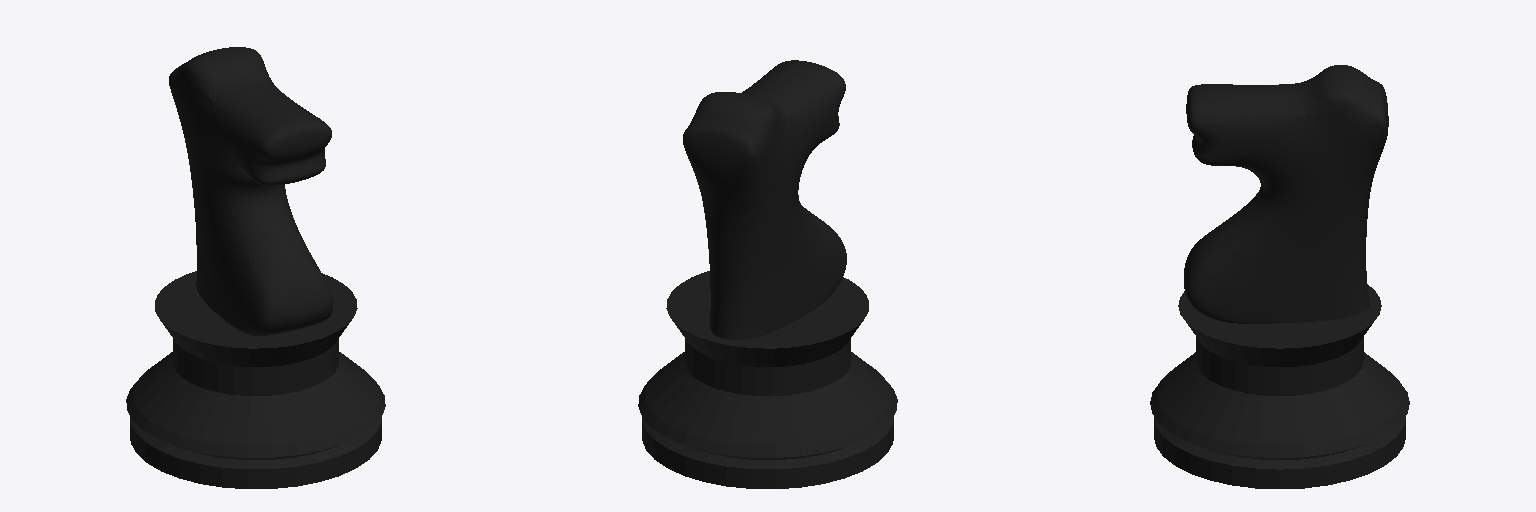
Rendered from knightbk.obj.
3 views of the same model, side by side, from view 1: azimuth 30°, elevation 25°; view 2: azimuth 150°, elevation 25°; view 3: azimuth 270°, elevation 25° (orthographic).
Visible parts, largest first — view 1: Cube_Cube.001; view 2: Cube_Cube.001; view 3: Cube_Cube.001.
Part boxes in pixels (bbox=[...]): Cube_Cube.001: bbox=[126, 47, 385, 488]; Cube_Cube.001: bbox=[638, 60, 897, 488]; Cube_Cube.001: bbox=[1150, 65, 1409, 488].
Bounding box in the file's own units: 2.06 × 3.14 × 2.06.